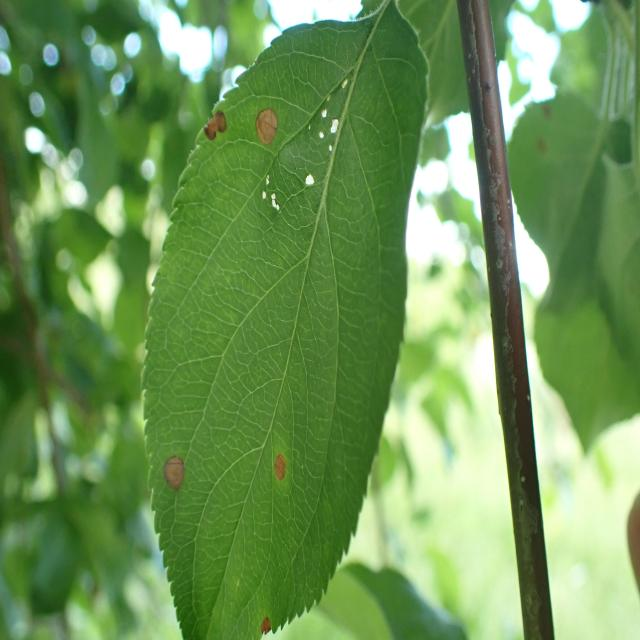Black Rot: (296, 65, 352, 205), (190, 79, 235, 157), (153, 434, 196, 512), (252, 74, 285, 174), (260, 443, 296, 513), (246, 605, 280, 640)
